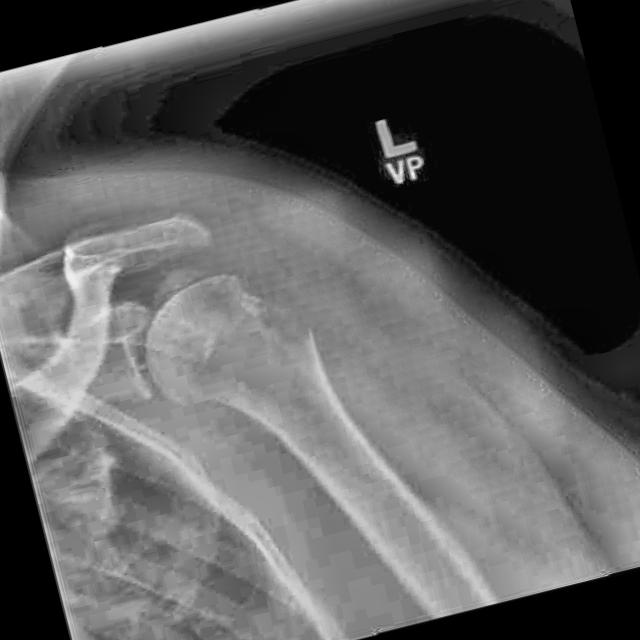shoulder fracture: (193, 245, 347, 383)
